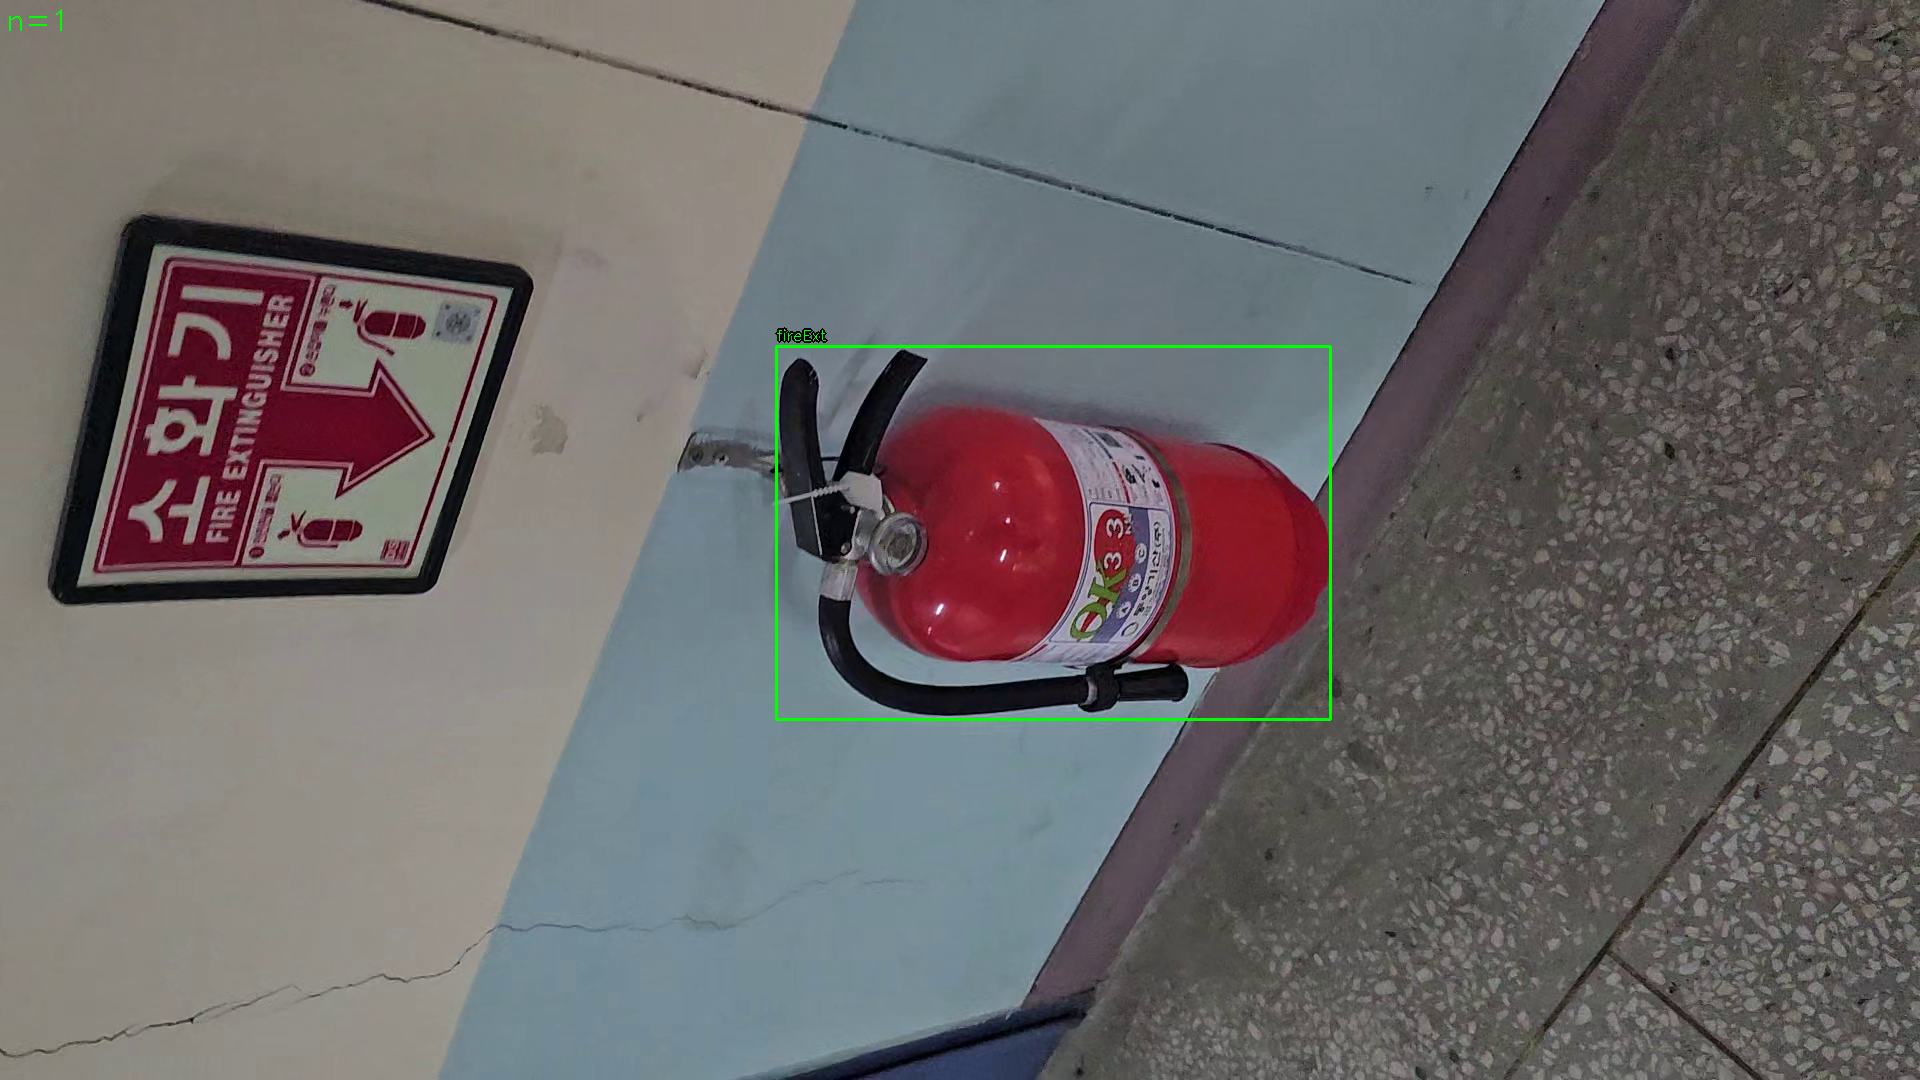lane: (775, 345, 1331, 720)
